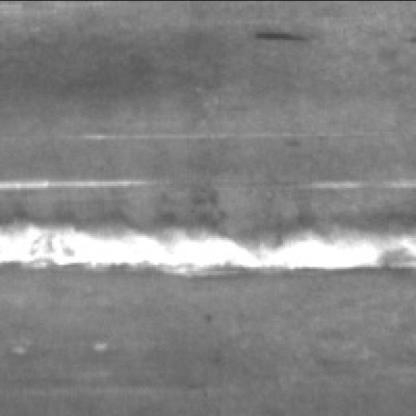inclusion: (243, 21, 308, 44)
scratches: (0, 210, 412, 277), (0, 169, 154, 193), (289, 169, 414, 193)
